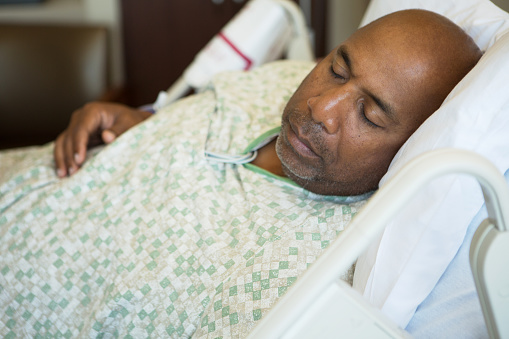deitado: (103, 0, 508, 339)
